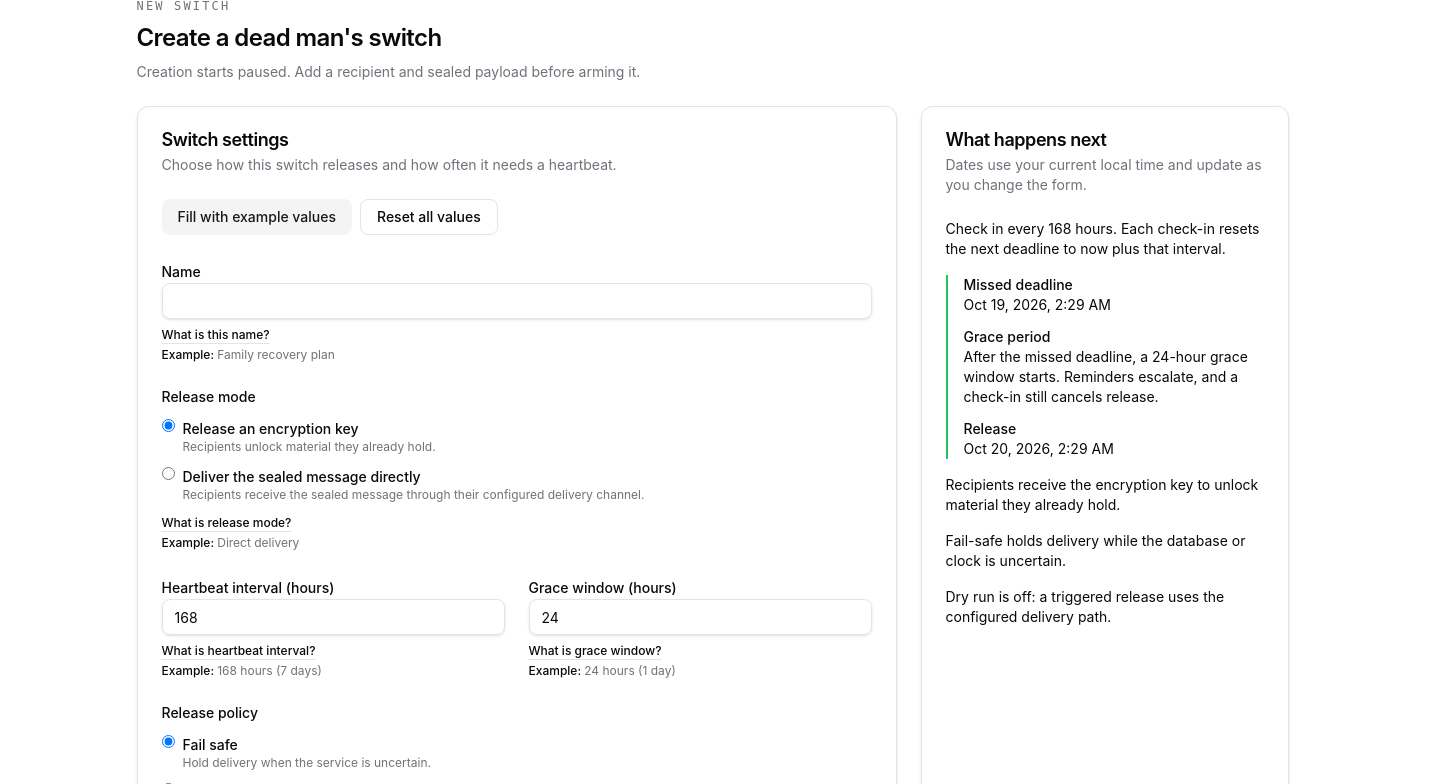
NewSwitchPage › fills the guided form with a sensible dry-run example
This screenshot has width=1440, height=784.
Click the button "Fill with example values".
click(257, 217)  # box [162, 199, 352, 235]
(page scrolled)
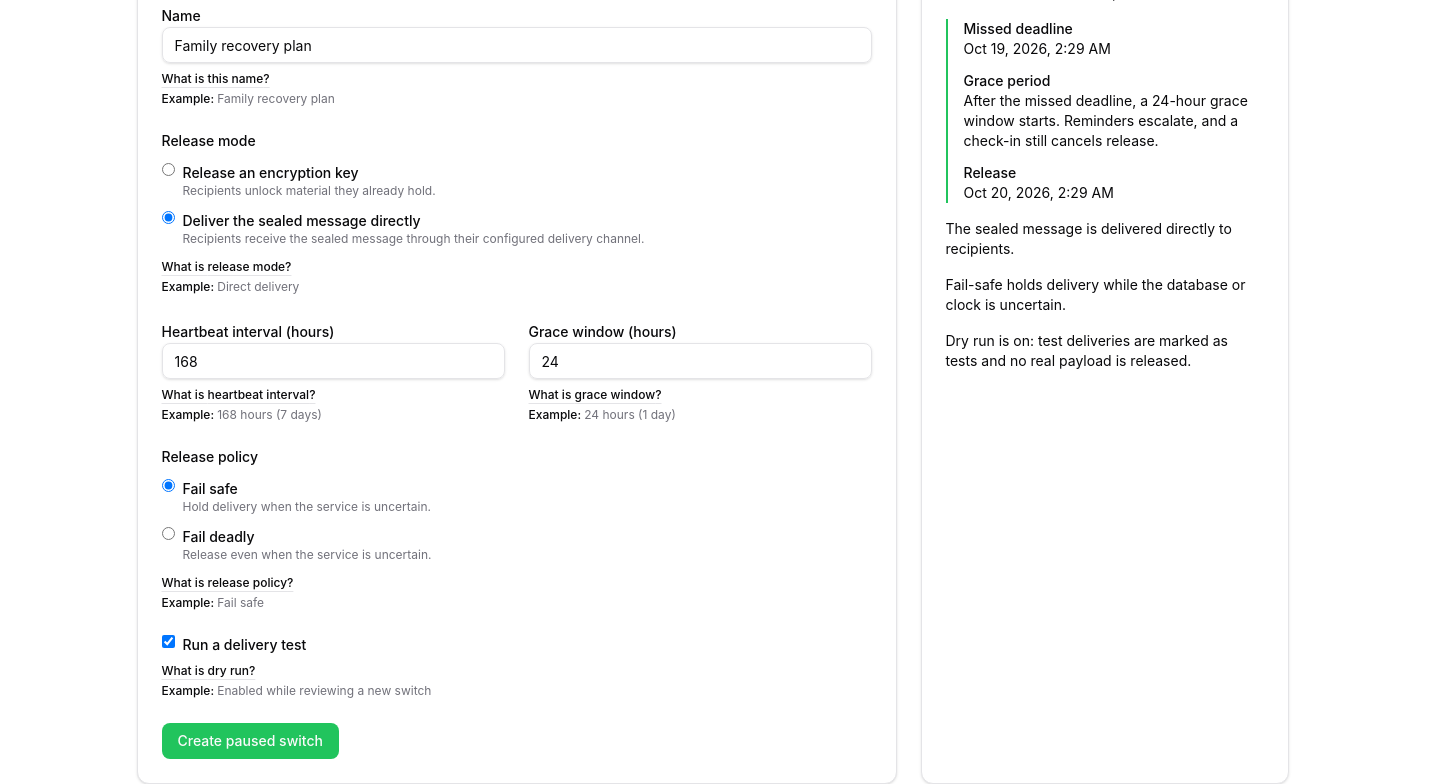
Now the field labelled "Name" holds "Family recovery plan", box [162, 27, 872, 63]
Now the radio button labelled "Deliver the sealed message directly" is checked, box [162, 211, 174, 224]
Now the checkbox labelled "Run a delivery test" is checked, box [162, 635, 174, 648]
